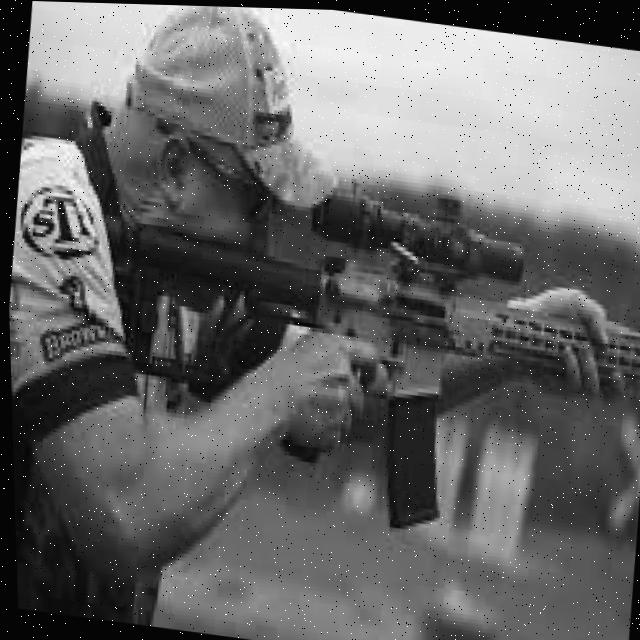firearm: (95, 150, 640, 553)
